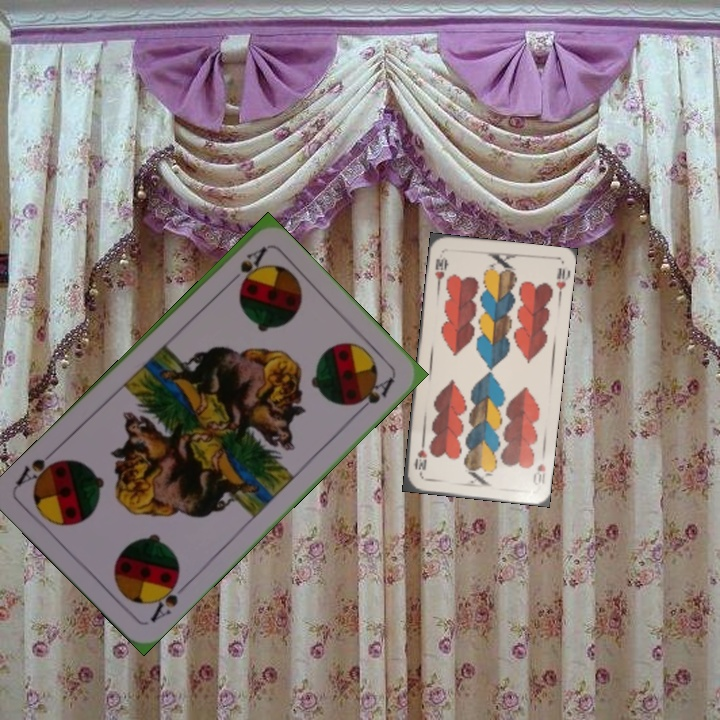H10: (431, 253, 450, 289), (529, 459, 548, 488)
SA: (221, 243, 269, 290), (146, 572, 182, 625)
